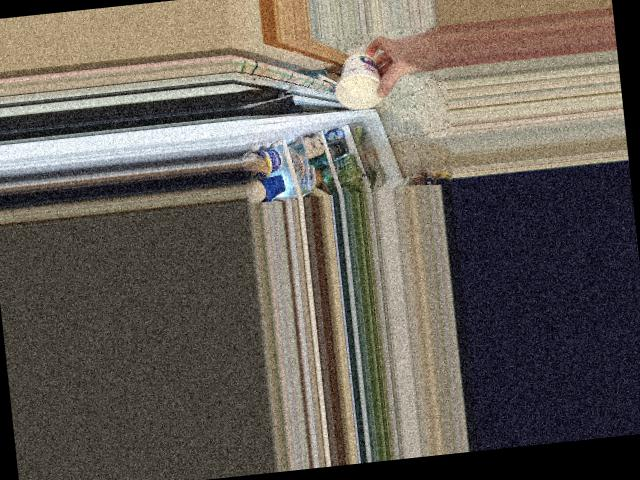cotage: (336, 53, 385, 111)
